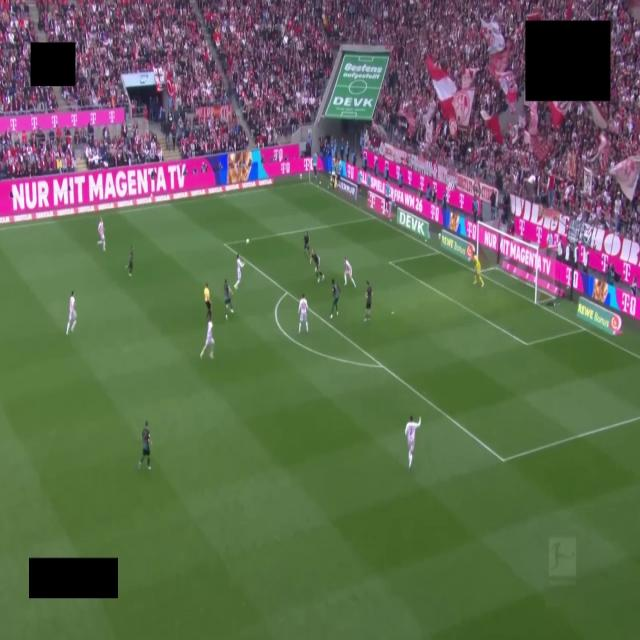ball: (246, 239, 249, 244)
player: (405, 416, 420, 468), (138, 422, 151, 470), (200, 320, 214, 358), (310, 250, 324, 282), (66, 291, 76, 335), (223, 280, 233, 319), (472, 252, 483, 287), (330, 280, 340, 318), (299, 295, 308, 333), (234, 255, 244, 289), (344, 257, 355, 287), (365, 281, 371, 321), (98, 218, 105, 251), (127, 246, 133, 276), (304, 232, 309, 254)
referee: (204, 283, 211, 319)
